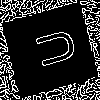U: (25, 25, 78, 73)
